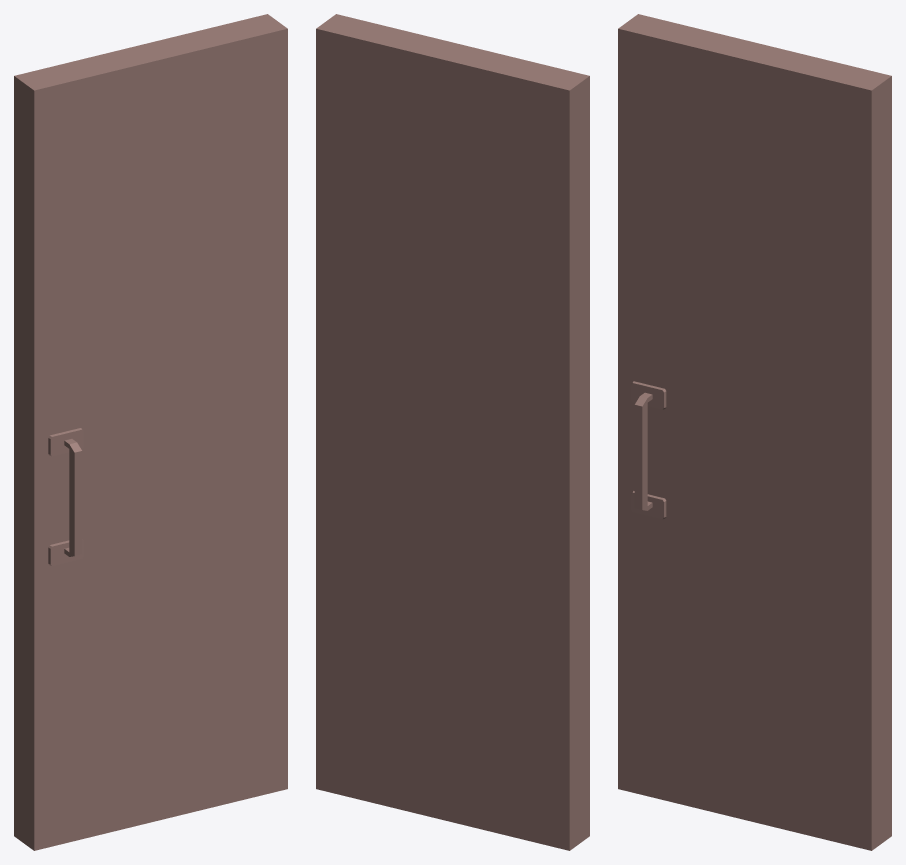
The picture shows the model from 3 angles, left to right: view 1: azimuth 30°, elevation 25°; view 2: azimuth 150°, elevation 25°; view 3: azimuth 330°, elevation 25°; orthographic projection.
Parts seen in each view (by area): view 1: SM_H2_D1; view 2: SM_H2_D1; view 3: SM_H2_D1.
Boxes of the visible parts, x1=… form: SM_H2_D1: x1=14, y1=14, x2=287, y2=850; SM_H2_D1: x1=316, y1=14, x2=589, y2=850; SM_H2_D1: x1=618, y1=14, x2=891, y2=850.
Size of the model in its own units: 103 by 22.39 by 294.
1 material, 1 textured.
